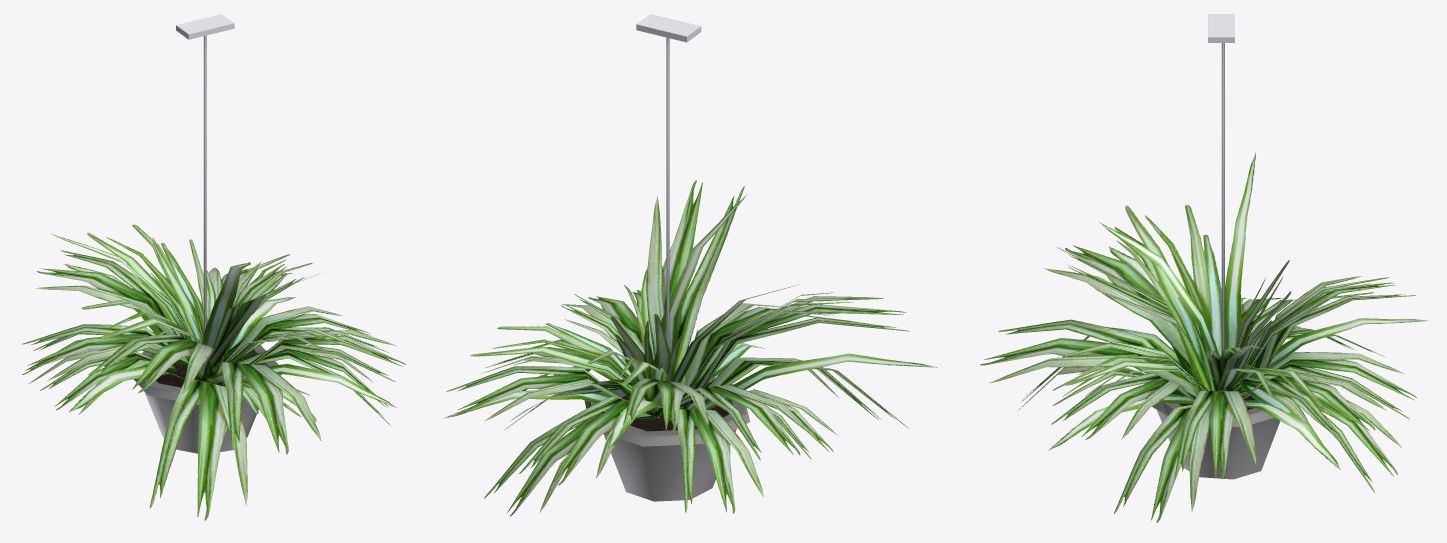
Rendered from furni_0200430.FBX.
3 views of the same model, side by side, from view 1: azimuth 30°, elevation 25°; view 2: azimuth 150°, elevation 25°; view 3: azimuth 270°, elevation 25° (orthographic). The views are drawn at different scales.
Visible parts, largest first — view 1: furni_0200430; view 2: furni_0200430; view 3: furni_0200430.
Boxes of the visible parts, x1,y1,x2,y2 form: furni_0200430: (22,14,406,520); furni_0200430: (444,14,937,516); furni_0200430: (980,14,1428,522).
Bounding box in the file's own units: 58.04 × 62.65 × 60.67.
